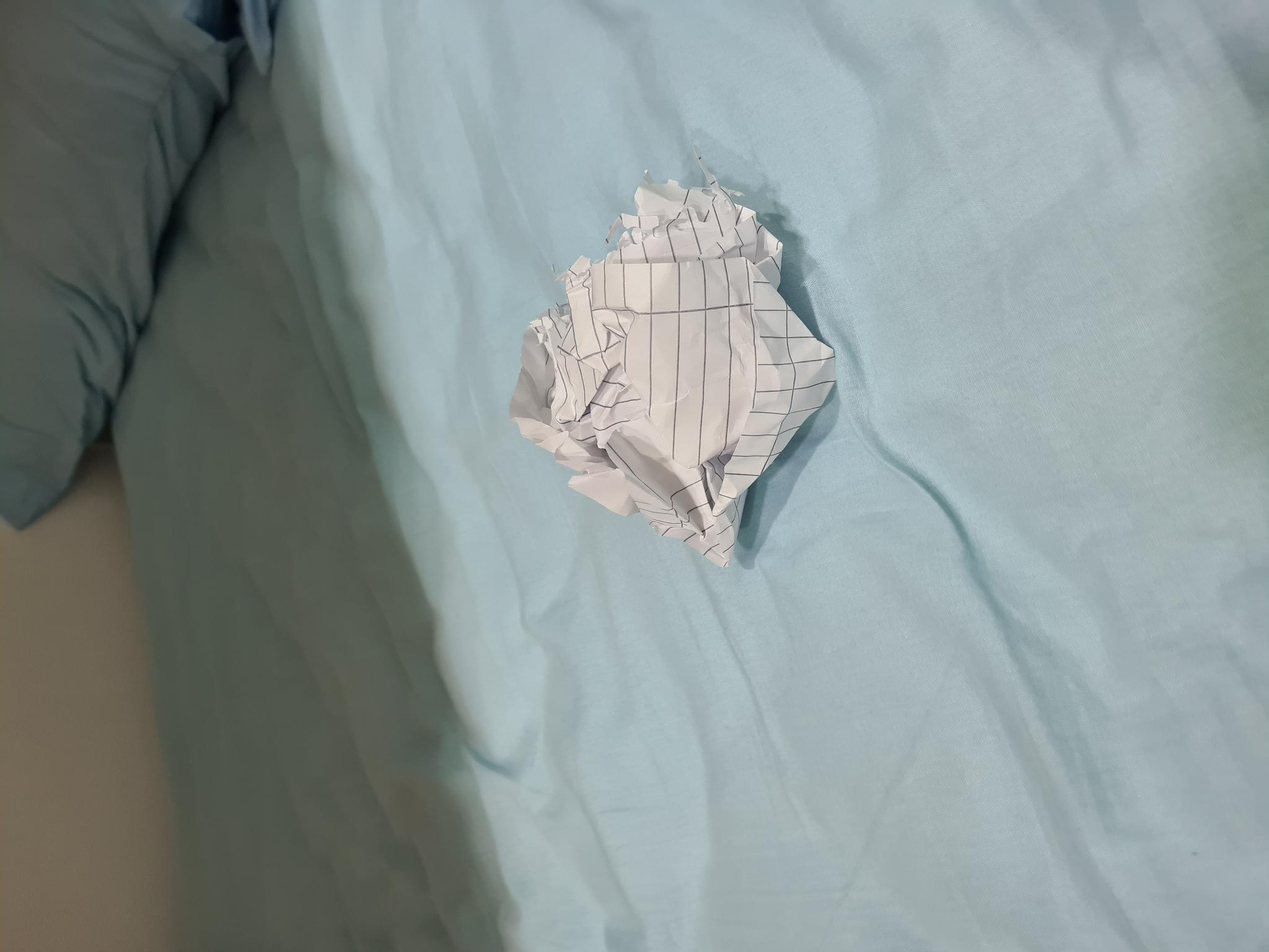Kertas: (387, 534, 765, 833)
